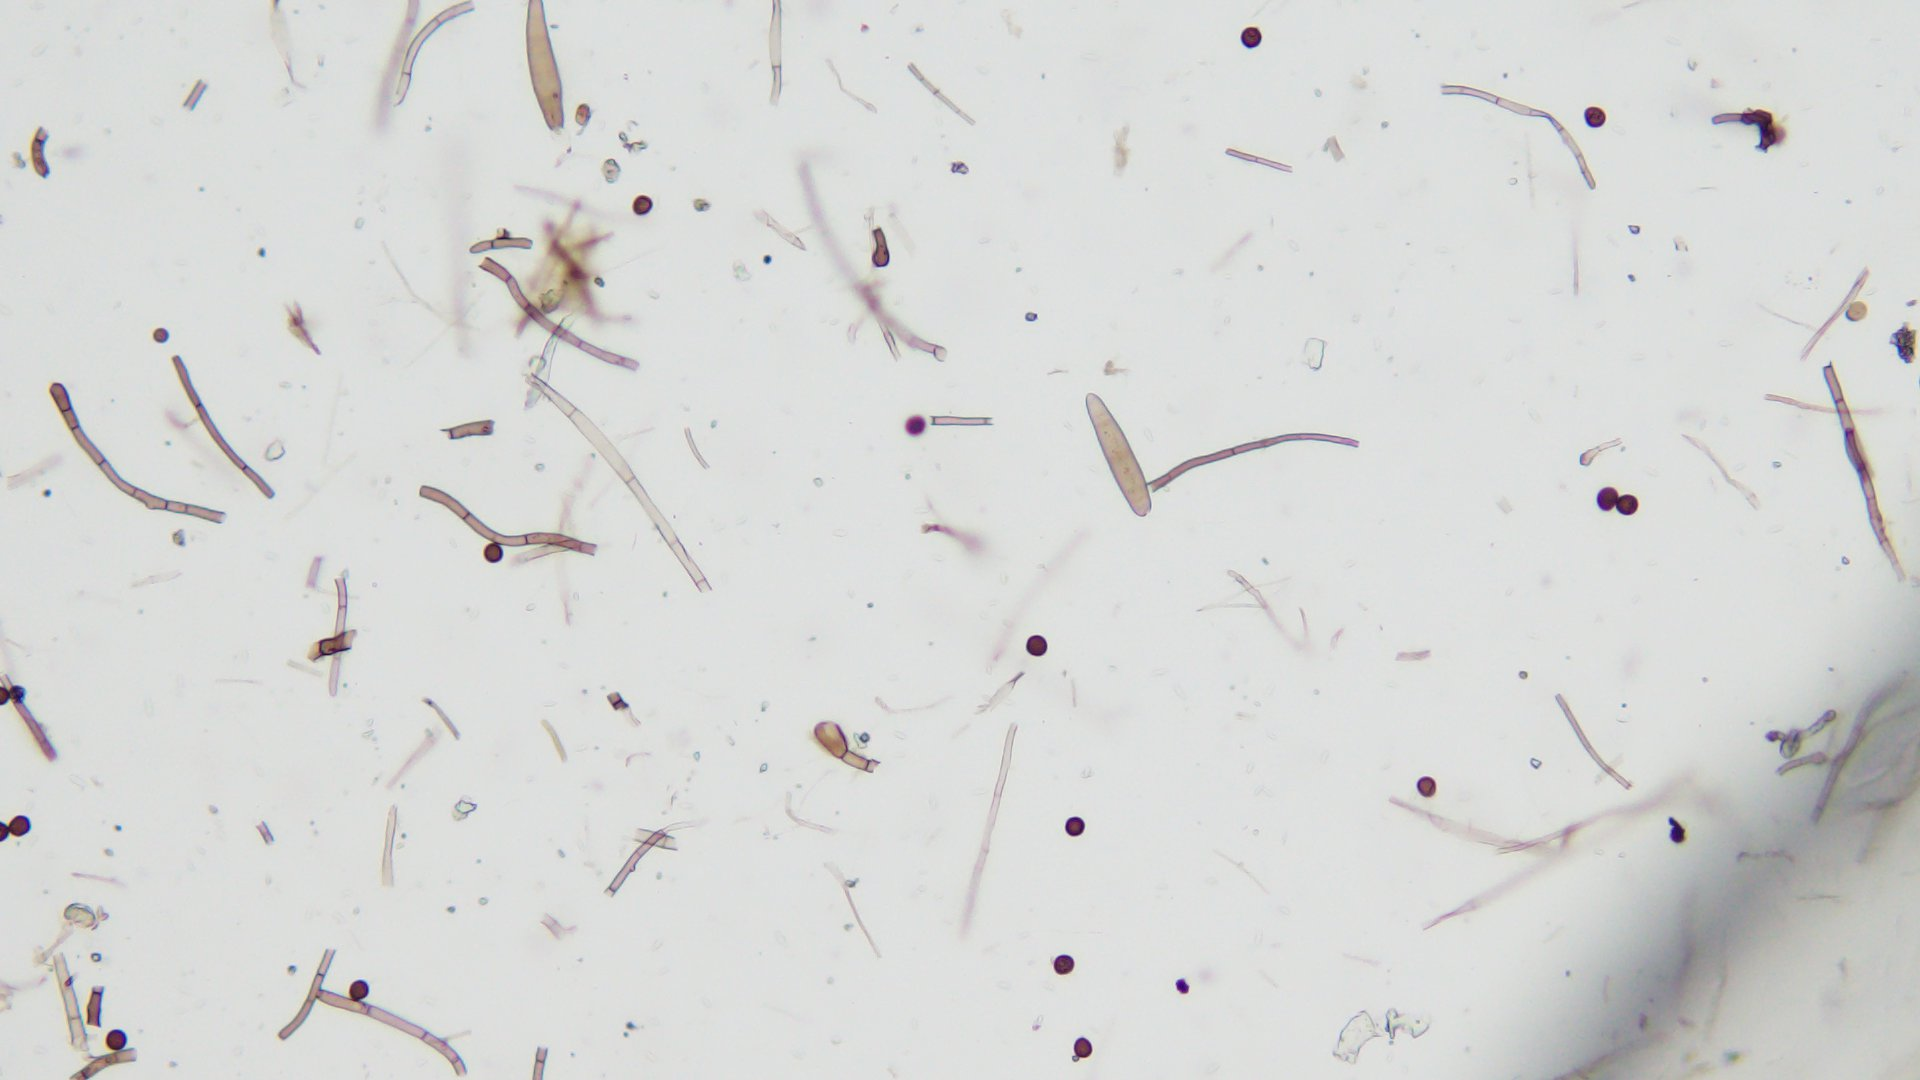dbb_spore: (1080, 394, 1156, 520), (522, 3, 566, 132)
shs_spore: (1596, 487, 1622, 512), (1054, 953, 1076, 978), (105, 1029, 129, 1051), (903, 413, 927, 434), (1025, 636, 1048, 657), (1073, 1035, 1095, 1059), (1240, 26, 1263, 47), (1615, 496, 1639, 516), (1065, 816, 1087, 837), (1415, 775, 1436, 796), (348, 980, 369, 1001), (484, 545, 505, 564), (9, 818, 32, 836), (1585, 107, 1605, 127), (633, 198, 654, 215)
